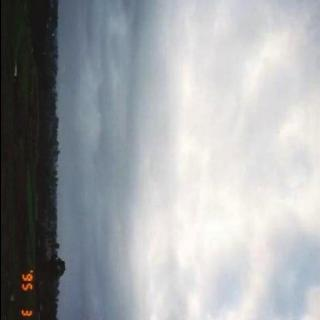Stratocumulus: (71, 0, 320, 320)
